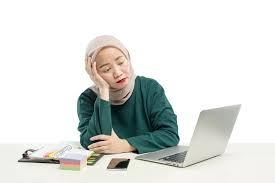Drowsy: (76, 32, 150, 112)
